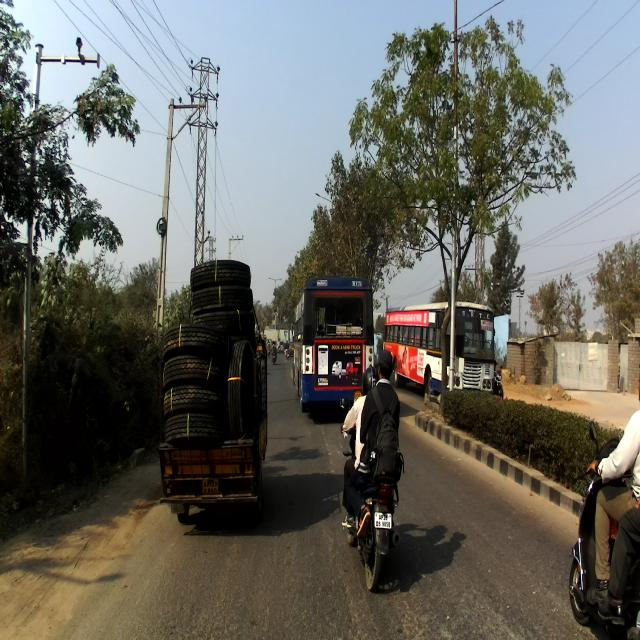motorcycle ahead at: (340, 460, 404, 592)
truck ahead at: (156, 250, 273, 527)
